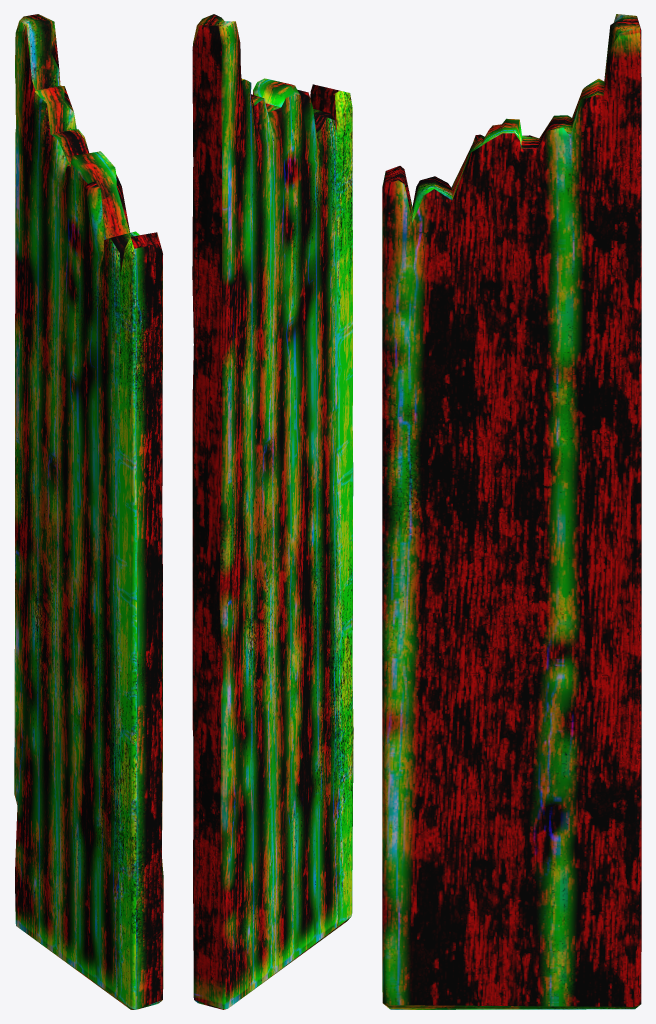
File: SM_BrokenPlanks_5.fbx
3 views of the same model, side by side, from view 1: azimuth 30°, elevation 25°; view 2: azimuth 150°, elevation 25°; view 3: azimuth 270°, elevation 25° (orthographic). The views are drawn at different scales.
Parts seen in each view (by area): view 1: SM_BrokenPlanks_5_LOD0; view 2: SM_BrokenPlanks_5_LOD0; view 3: SM_BrokenPlanks_5_LOD0.
Part boxes in pixels (left/top/right/bottom): SM_BrokenPlanks_5_LOD0: left=14, top=14, right=163, bottom=1009; SM_BrokenPlanks_5_LOD0: left=192, top=14, right=353, bottom=1009; SM_BrokenPlanks_5_LOD0: left=382, top=14, right=641, bottom=1009.
Size of the model in its own units: 6.35 by 38.04 by 159.
